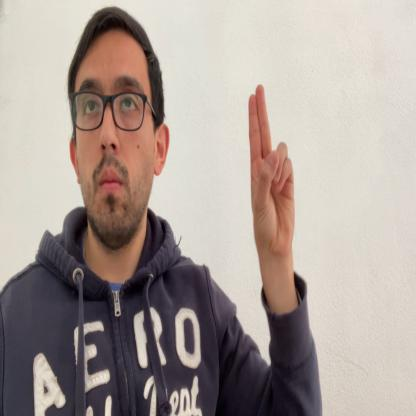U: (249, 82, 295, 261)
